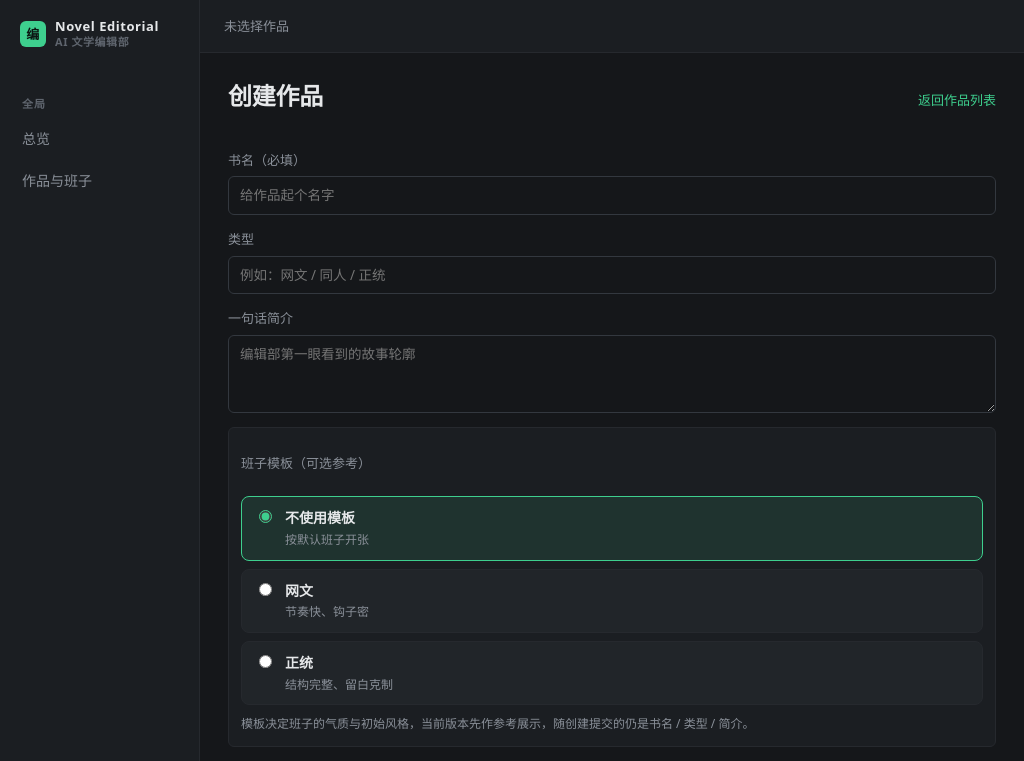
Test: works create page › disables submit until a title is typed
expect the text "网文" is shown: met, box [285,581,313,600]
In the field with test id "works-title-input": (612, 196) [228,176,996,215], type "乙书"
(page scrolled)
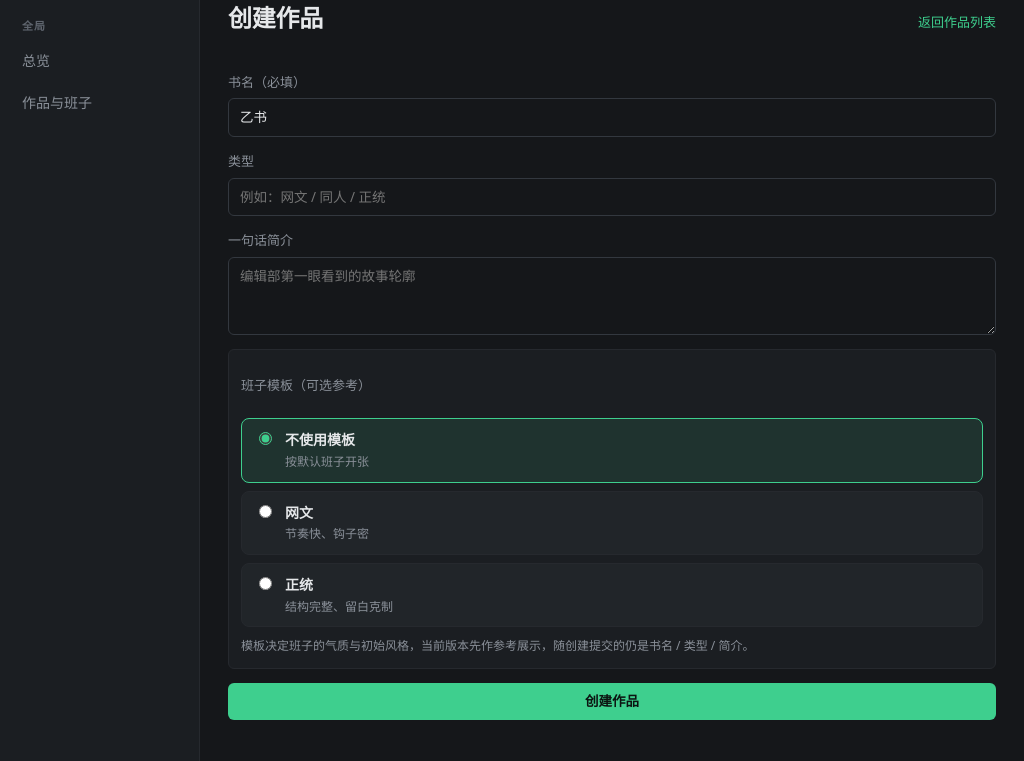
expect the button with test id "works-submit-button" is enabled: met, box [228,683,996,720]
